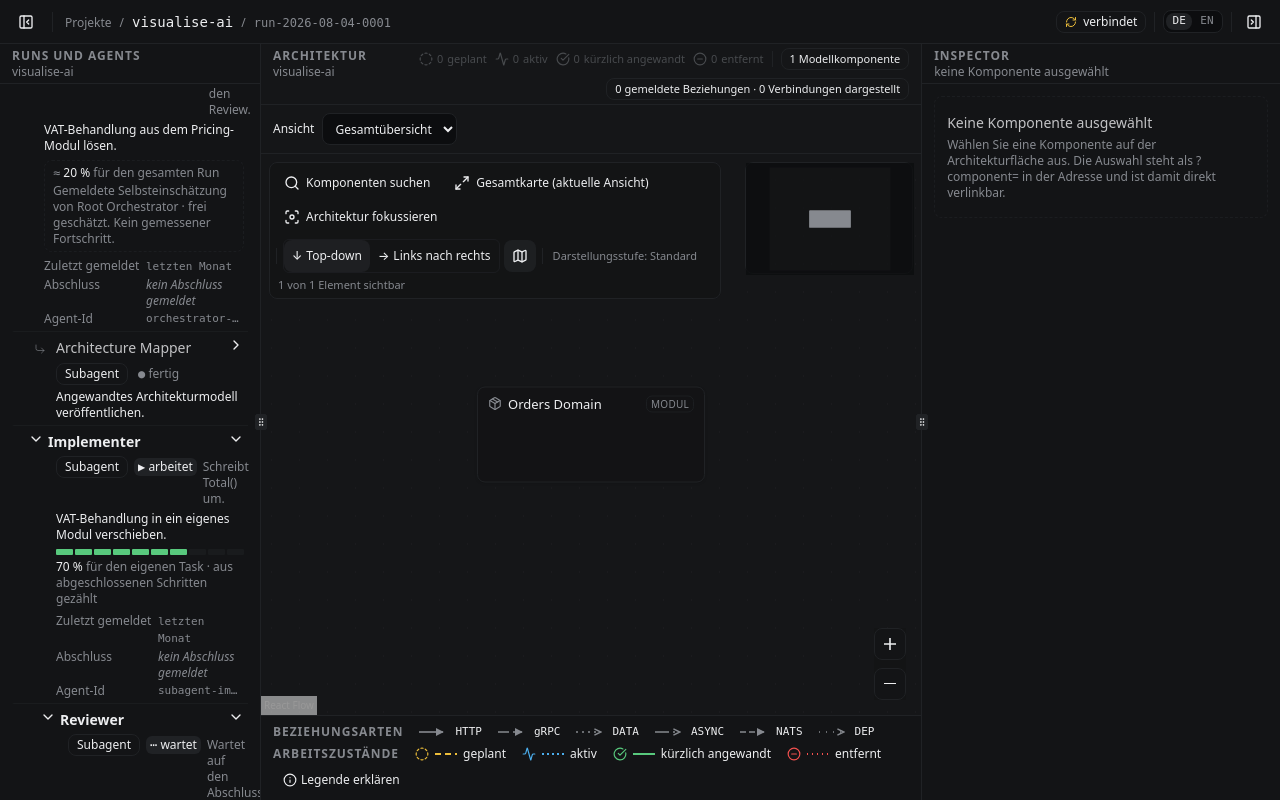
Test case: live updates › updates only the affected node and keeps the selection
(page scrolled)
Check: the element with test id "agent-tree" is shown, box x1=12 y1=84 x2=248 y2=799
Click the button "Implementer": {"x": 136, "y": 442} x1=48 y1=430 x2=224 y2=454
(page scrolled)
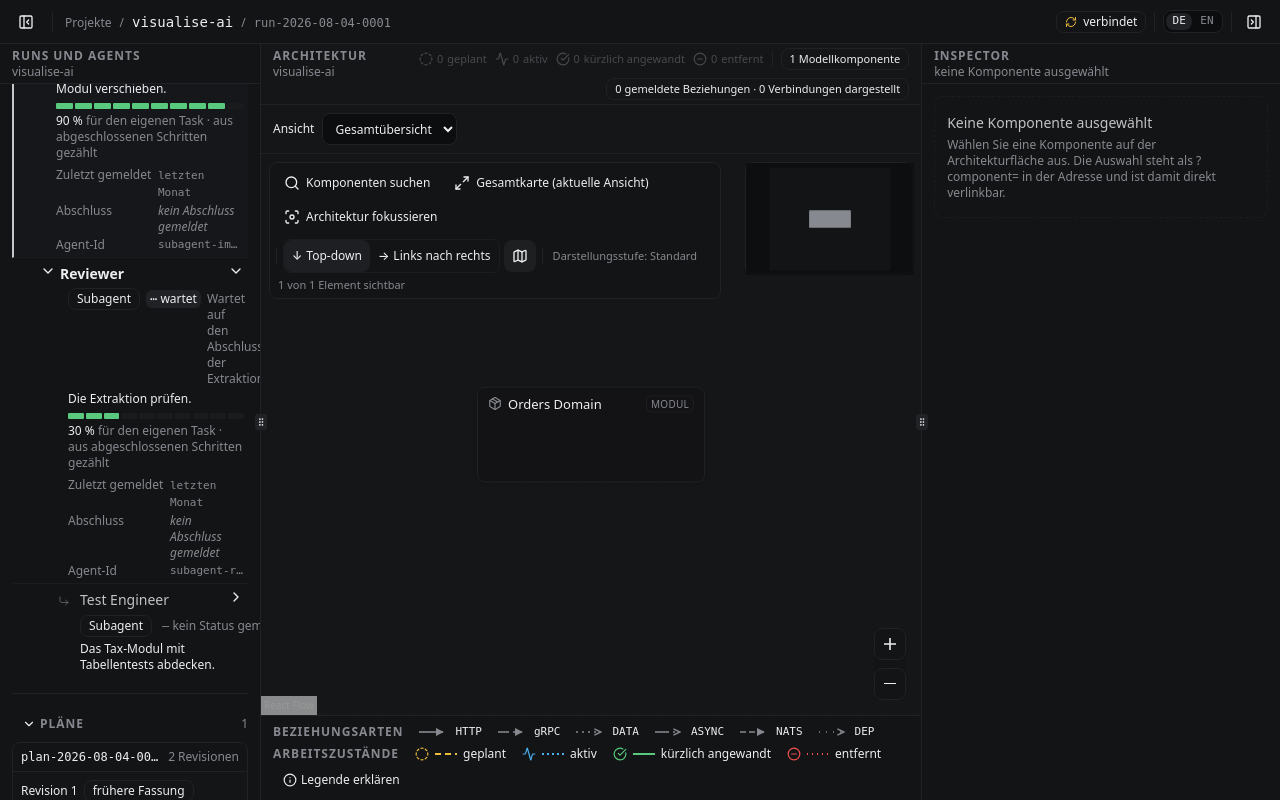
Check: the element with test id "agent-progress-subagent-implementer" shows "90 %", box x1=56 y1=112 x2=83 y2=129
